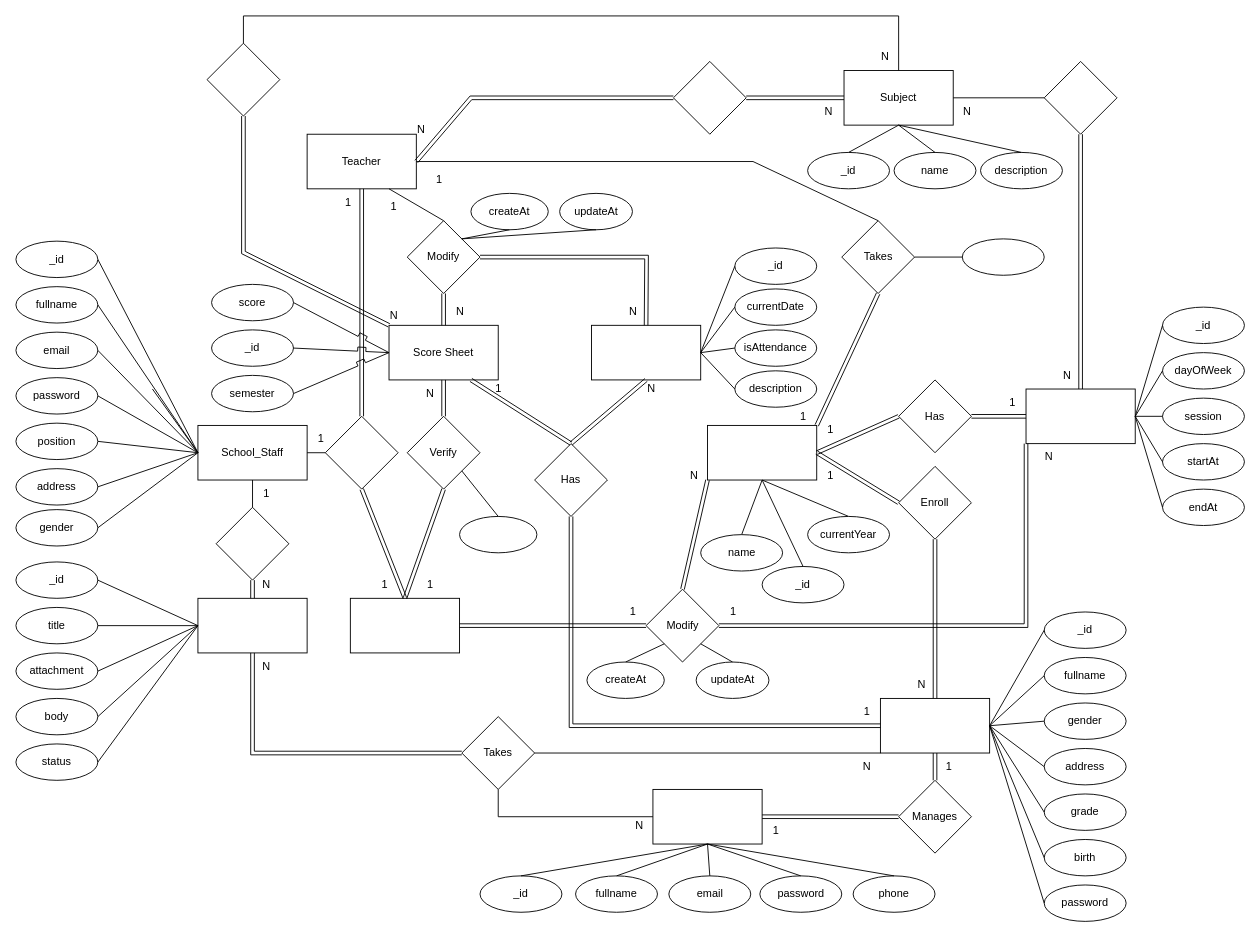
The diagram is 1260 pixels wide and 937 high, and some of its shapes have lost their labels. The centre of each missing label's shape, as x and y in pixels:
"Announcement" goes at [252,625].
"Attendance" goes at [646,352].
"Belong" goes at [243,79].
"Class" goes at [762,452].
"Is A" goes at [361,452].
"Organizes" goes at [1080,97].
"Parent" goes at [707,816].
"Principal" goes at [404,625].
"Schedule" goes at [1080,416].
"Sends" goes at [252,543].
"start_date" goes at [1002,256].
"Student" goes at [935,725].
"Teaches" goes at [709,97].
"verifyAt" goes at [498,534].
